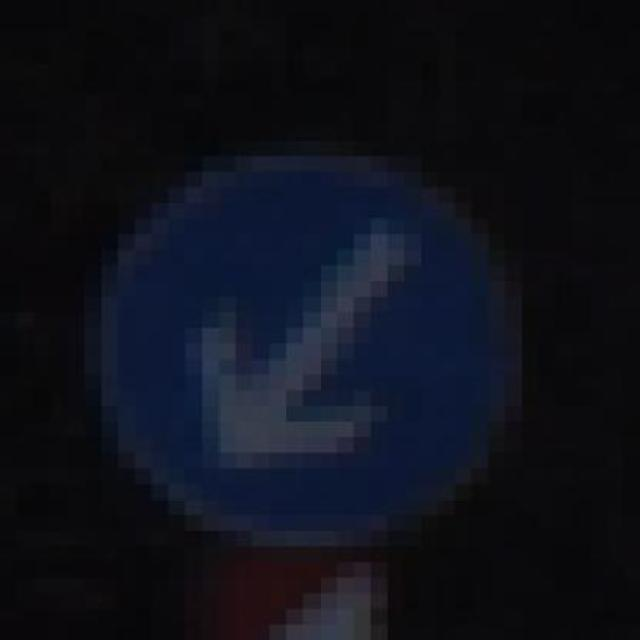Keep-Left: (67, 108, 573, 578)
